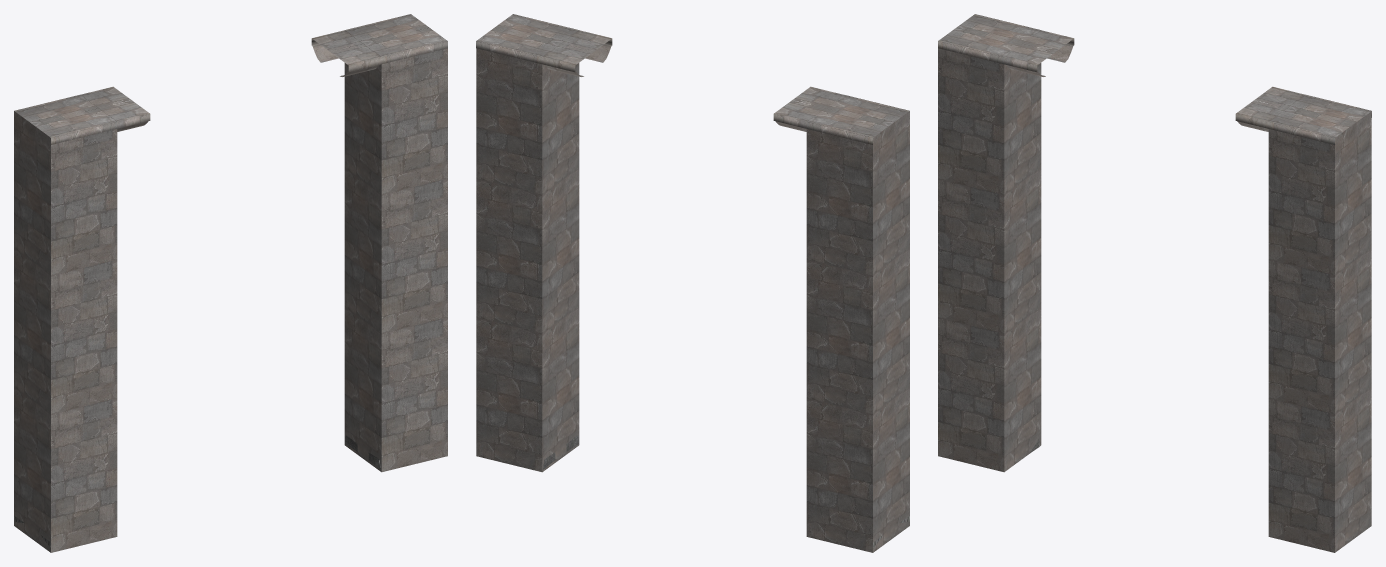
3 renders of one model, left to right at view 1: azimuth 30°, elevation 25°; view 2: azimuth 150°, elevation 25°; view 3: azimuth 330°, elevation 25°, orthographic.
Visible parts, largest first — view 1: SM_DungeonDoorWall_ForPrefabs_LOD0; view 2: SM_DungeonDoorWall_ForPrefabs_LOD0; view 3: SM_DungeonDoorWall_ForPrefabs_LOD0.
Part boxes in pixels (x1,y1,x2,y2): SM_DungeonDoorWall_ForPrefabs_LOD0: (14, 14, 447, 552); SM_DungeonDoorWall_ForPrefabs_LOD0: (476, 14, 909, 552); SM_DungeonDoorWall_ForPrefabs_LOD0: (938, 14, 1371, 552).
Size of the model in its own units: 6.01 by 6 by 0.9704.
2 materials, 2 textured.
